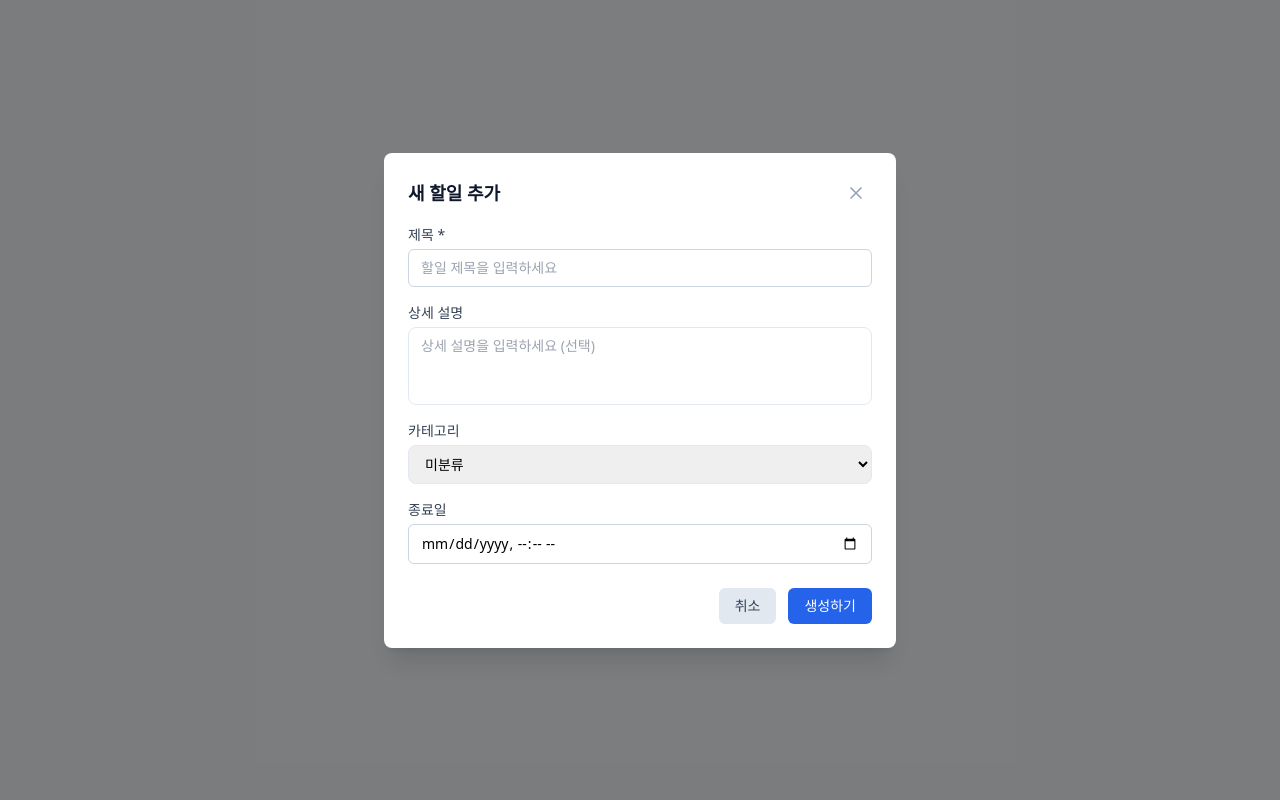
TaskFormModal › 제목이 빈 값이면 에러 메시지가 표시된다
The image size is (1280, 800).
Click the button "생성하기".
click(830, 606)  # box [788,588,872,624]
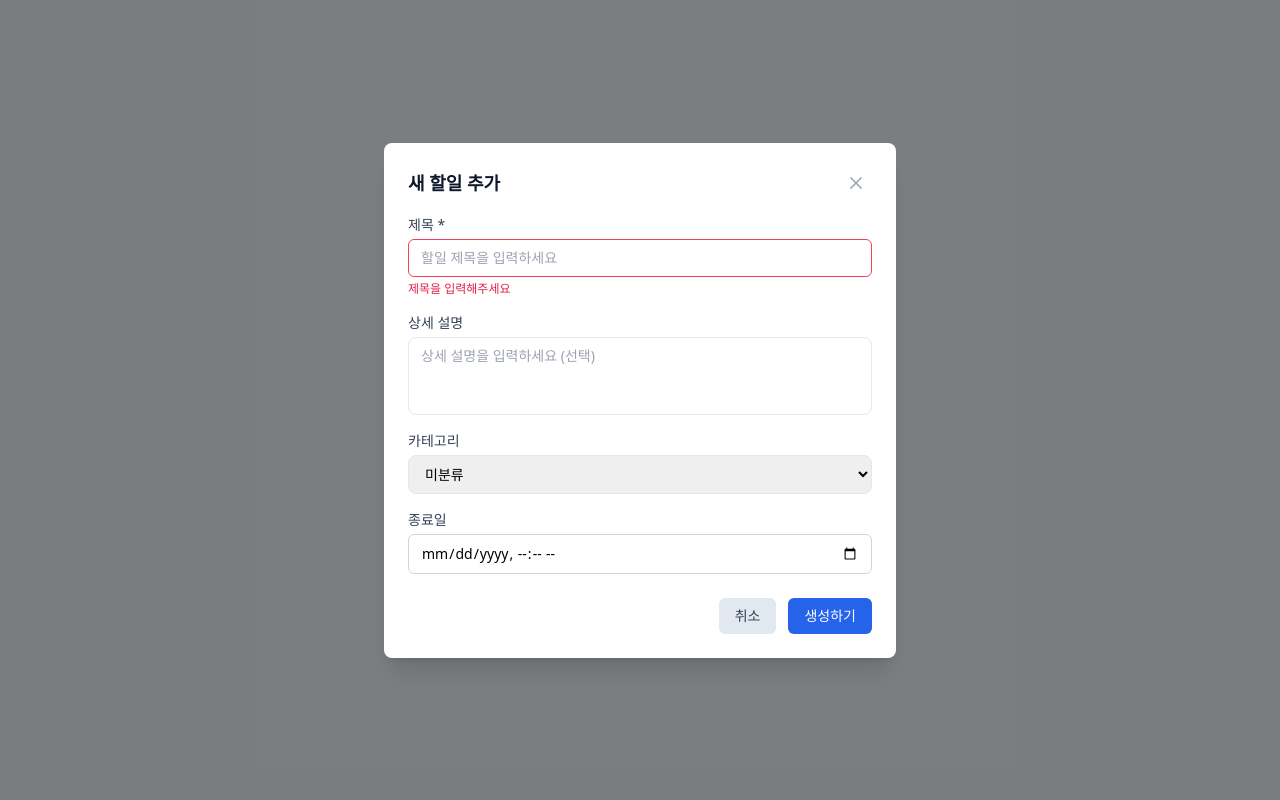
Result: the text "제목을 입력해주세요" is shown at [408,280,510,296]
